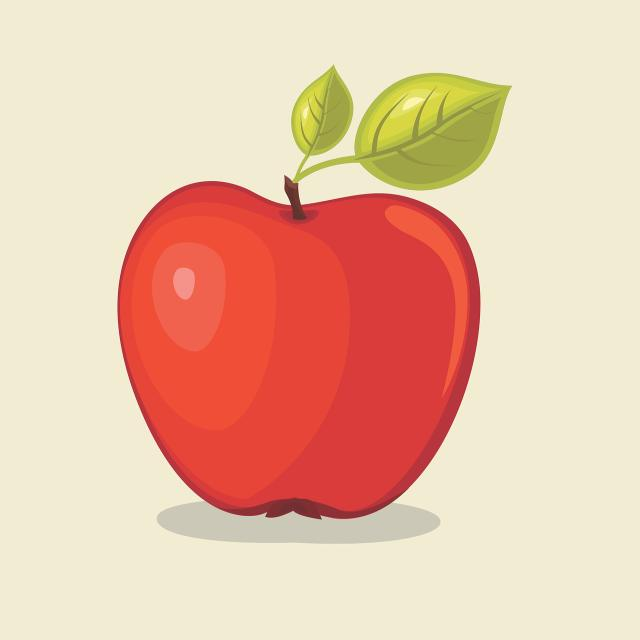manzana: (100, 54, 552, 552)
